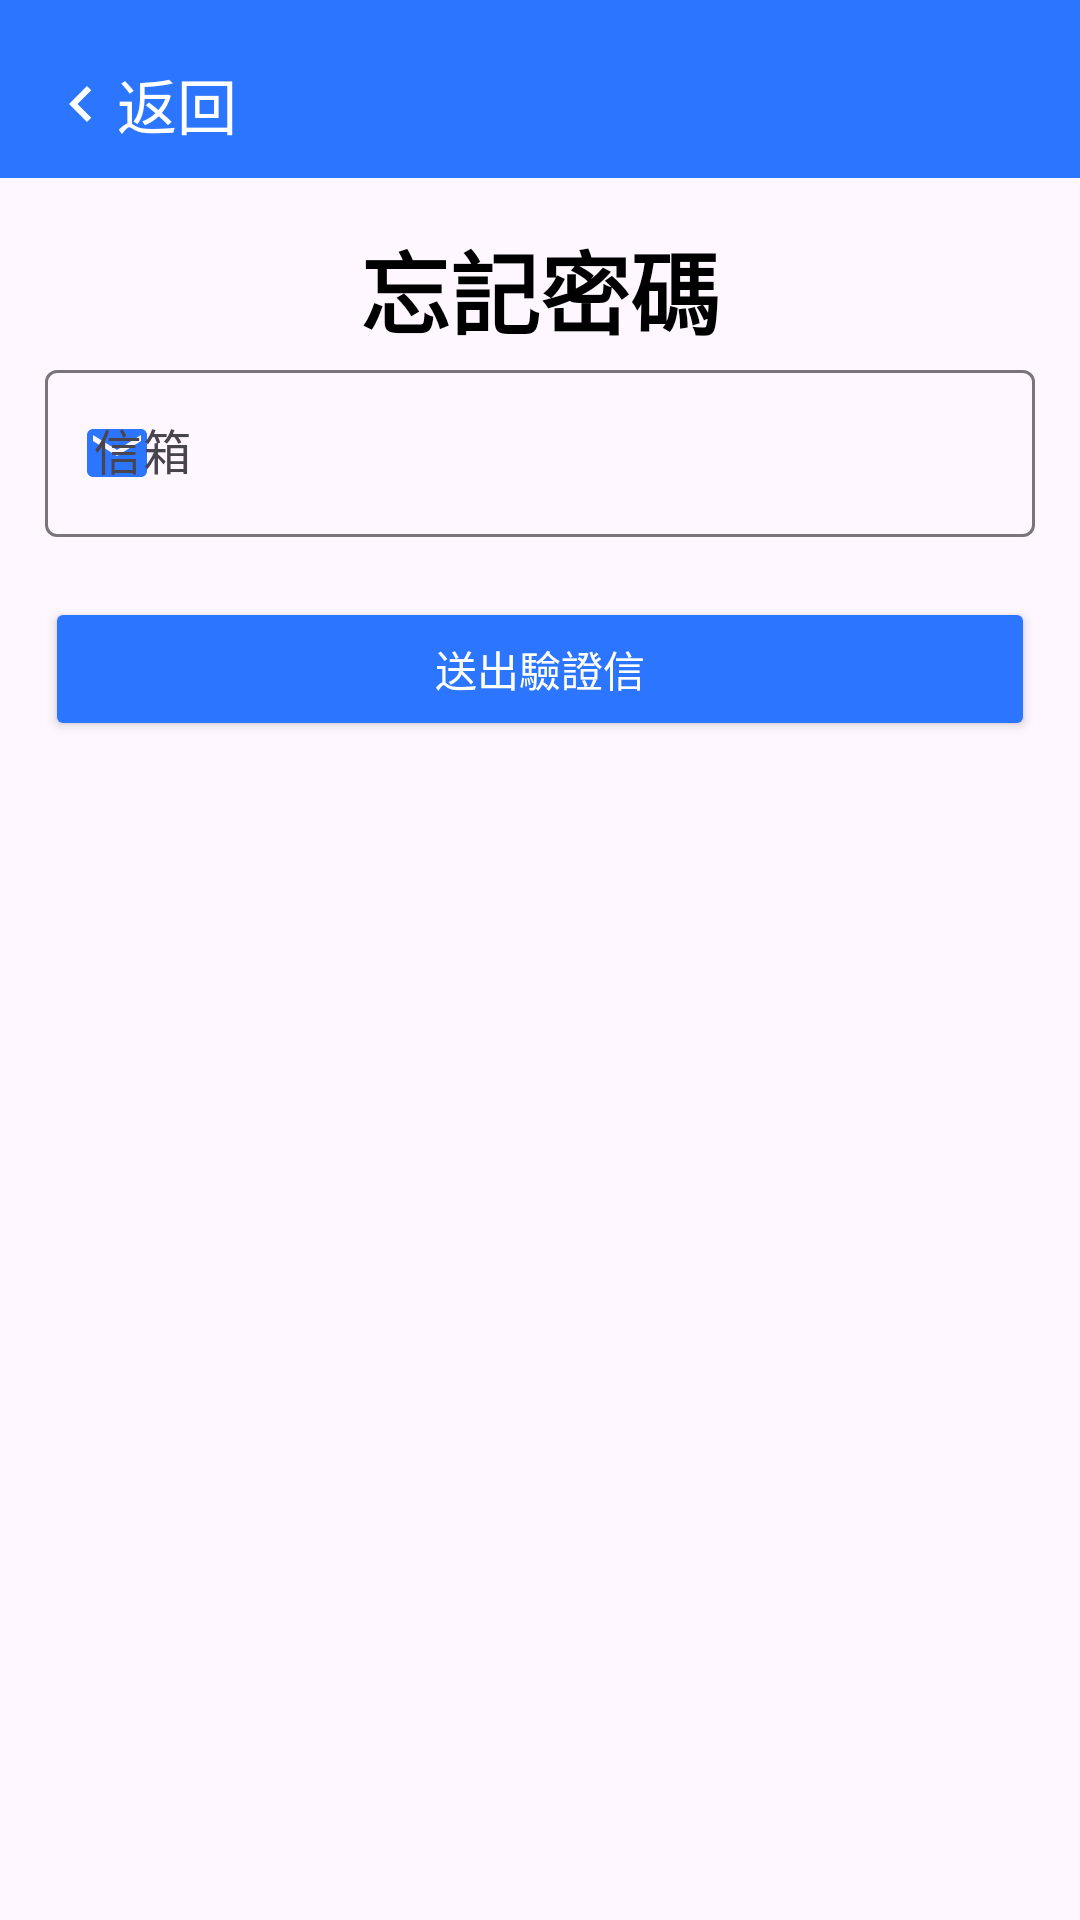

Named icons in this screenshot (1080w x 1920h) and their centers, (x=x, y=y):
chevron left: (x=80, y=104)
